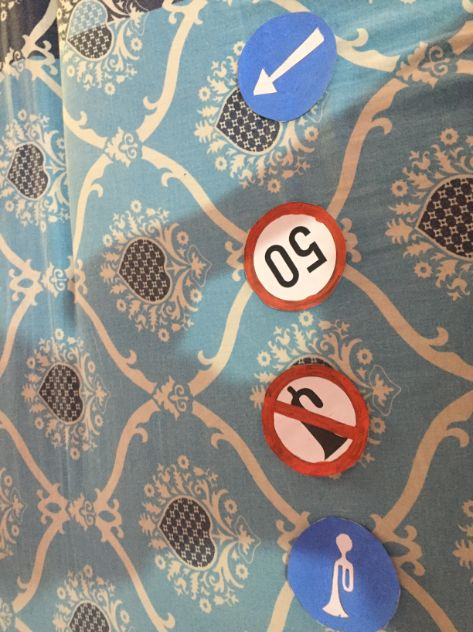blow-horn: (282, 507, 404, 628)
keep-left: (237, 13, 349, 125)
no-horn: (260, 366, 373, 479)
speed-50: (230, 189, 357, 315)
